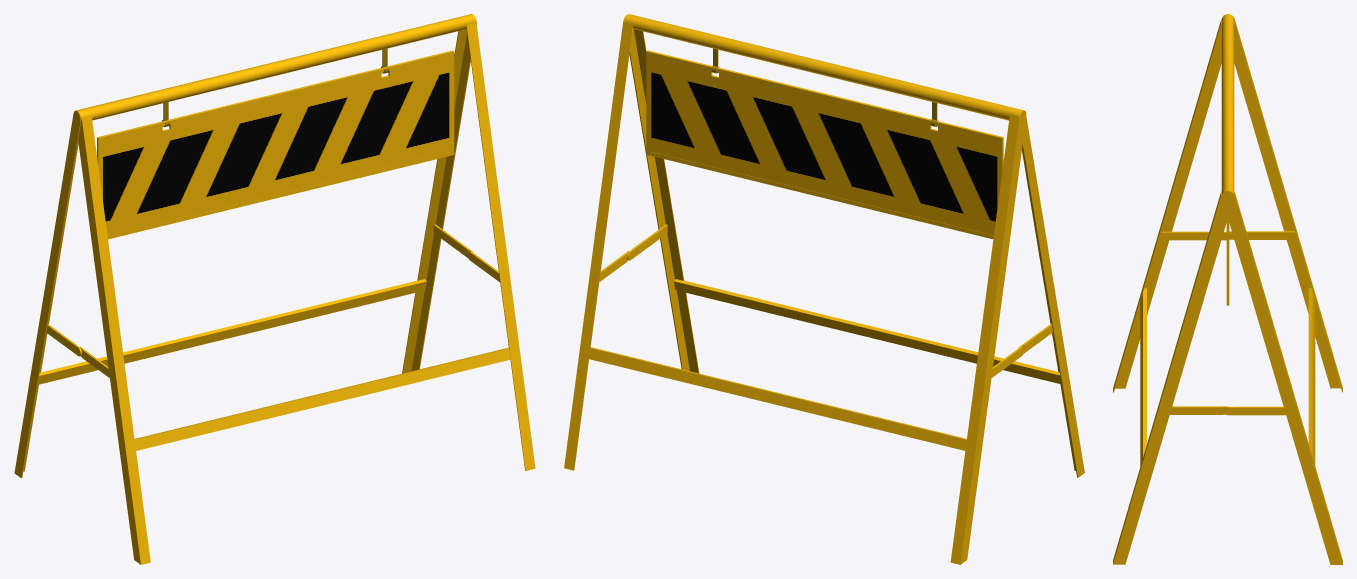
The model's file is RoadClosed.fbx.
3 renders of one model, left to right at view 1: azimuth 30°, elevation 25°; view 2: azimuth 150°, elevation 25°; view 3: azimuth 270°, elevation 25°, orthographic. The views are drawn at different scales.
Bounding box in the file's own units: 401 × 395 × 220.
Materials: 12 (12 with a texture image).
